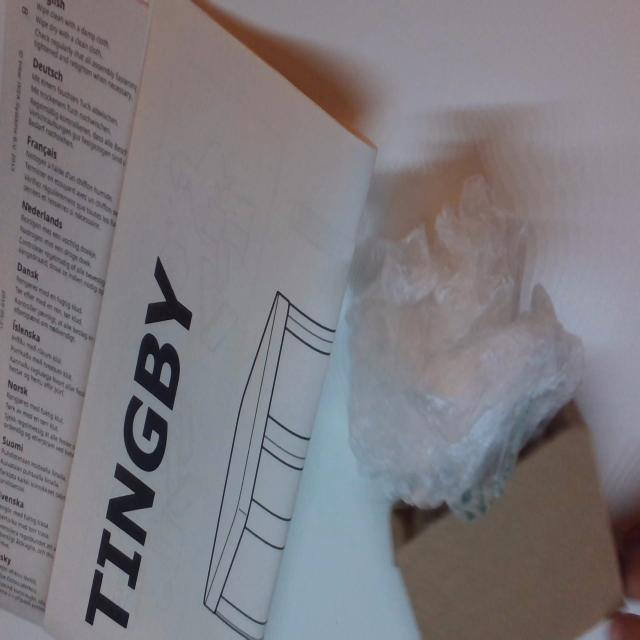Cardboard: (393, 404, 628, 640)
Paper: (0, 0, 373, 633)
